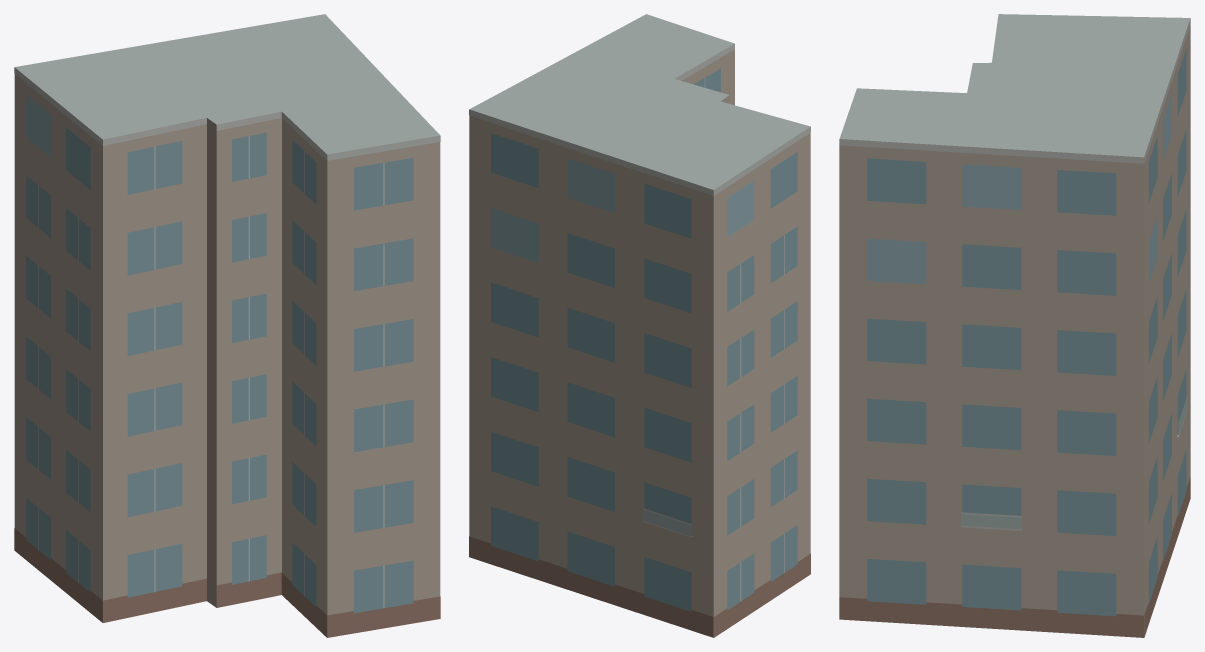
The model's file is survey-upis-32650245.glb.
The picture shows the model from 3 angles, left to right: view 1: azimuth 30°, elevation 25°; view 2: azimuth 150°, elevation 25°; view 3: azimuth 270°, elevation 25°; orthographic projection. The views are drawn at different scales.
Parts seen in each view (by area): view 1: survey-upis-32650245.tmp; view 2: survey-upis-32650245.tmp; view 3: survey-upis-32650245.tmp.
Part boxes in pixels (x1,y1,x2,y2): survey-upis-32650245.tmp: (14, 14, 440, 637); survey-upis-32650245.tmp: (469, 14, 810, 637); survey-upis-32650245.tmp: (839, 14, 1190, 637).
Size of the model in its own units: 11.85 by 18.5 by 12.26.
